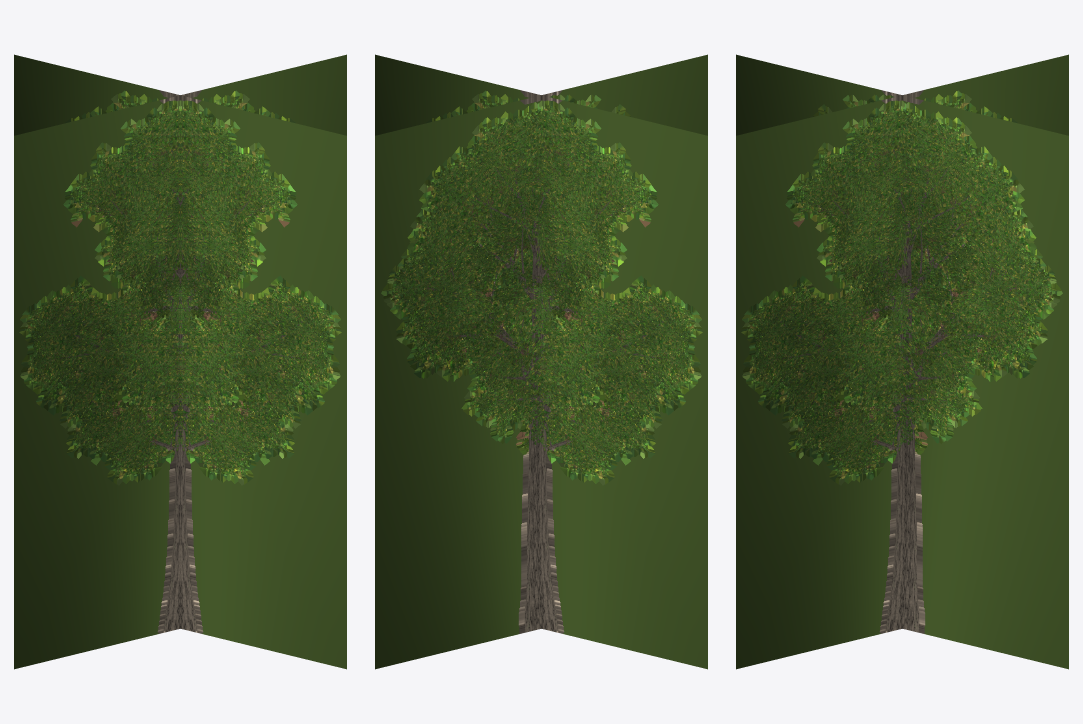
The model's file is Arbre-loin.glb.
3 views of the same model, side by side, from view 1: azimuth 30°, elevation 25°; view 2: azimuth 150°, elevation 25°; view 3: azimuth 270°, elevation 25° (orthographic).
Parts seen in each view (by area): view 1: Arbre-loin; view 2: Arbre-loin; view 3: Arbre-loin.
Boxes of the visible parts, x1,y1,x2,y2 form: Arbre-loin: (14,54,346,669); Arbre-loin: (375,54,707,669); Arbre-loin: (736,54,1068,669).
Size of the model in its own units: 8.23 by 12.6 by 7.13.
1 material, 1 textured.
